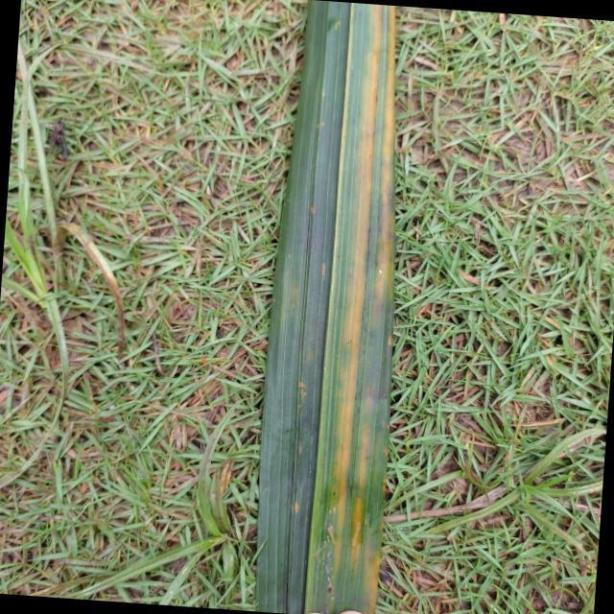Megnesium: (253, 0, 398, 614)
